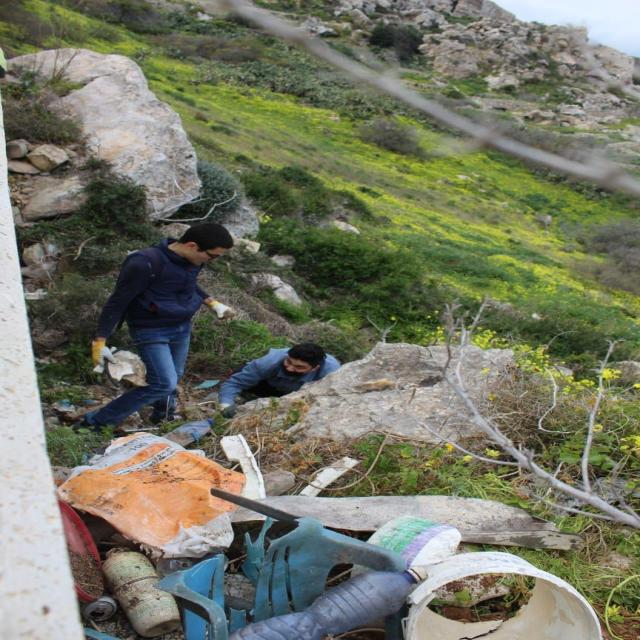Bottle: (232, 567, 426, 639), (106, 549, 181, 640), (158, 417, 218, 449)
Can: (86, 596, 118, 623)
Carton: (52, 431, 245, 562)
Other litter: (245, 493, 592, 549), (104, 346, 149, 388), (24, 291, 52, 300)
Other plastic: (156, 486, 405, 640), (400, 550, 605, 638), (55, 495, 105, 602), (369, 510, 460, 568)
Styrofoam piece: (300, 452, 359, 498), (220, 435, 266, 493)
